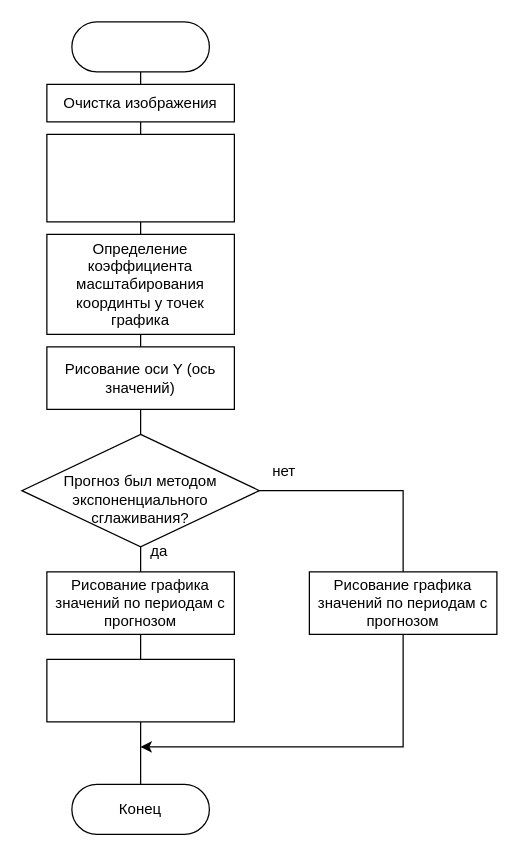
The diagram is 519 pixels wide and 856 high, and some of its shapes have lost their labels. Each missing label, with the centre of its shape:
"Начало" goes at (140,46).
"Определение шага по x, исходя из количества точек, которые необходимо построить" goes at (140,177).
"Рисование графика по экпоненциально сглаженной с прогнозом" goes at (140,690).
